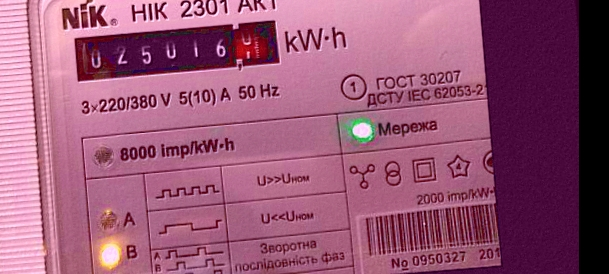0: (163, 37, 179, 61), (88, 47, 103, 70), (239, 26, 252, 47)
1: (188, 34, 201, 60), (243, 49, 252, 61)
2: (114, 42, 129, 66)
5: (139, 43, 152, 65)
6: (212, 35, 227, 61)
screen: (63, 10, 290, 89)
